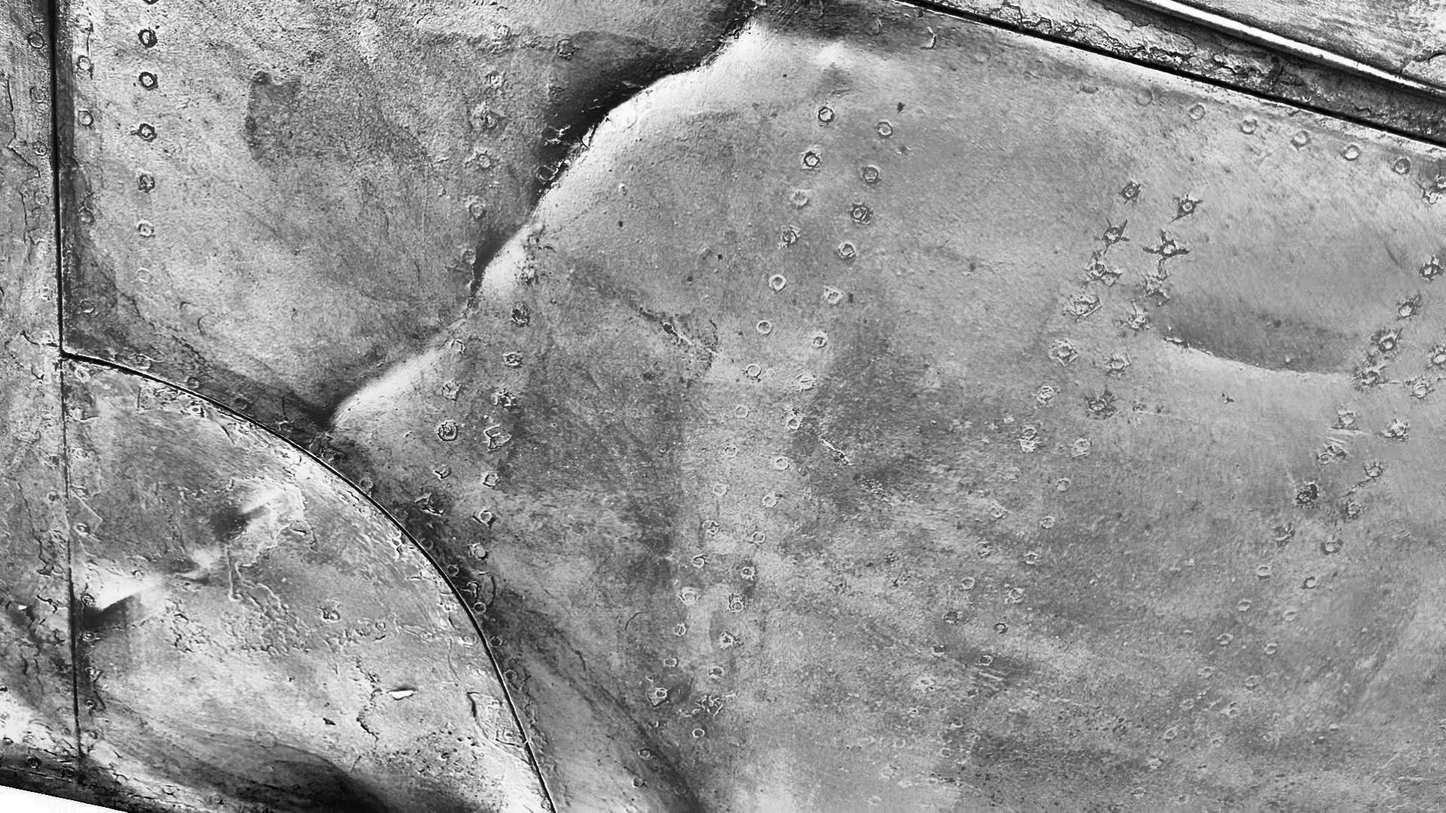dent: (535, 0, 755, 199), (320, 346, 435, 433), (1190, 341, 1350, 382), (471, 220, 523, 294), (218, 489, 281, 544), (85, 583, 141, 629)
